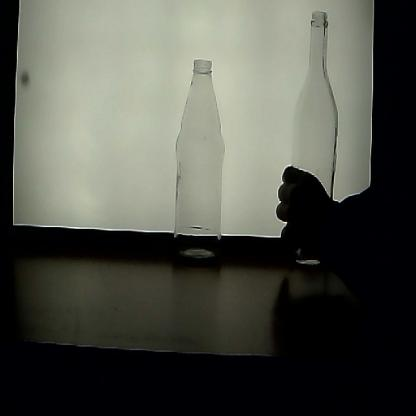Can: (288, 9, 338, 286), (172, 55, 226, 269)
